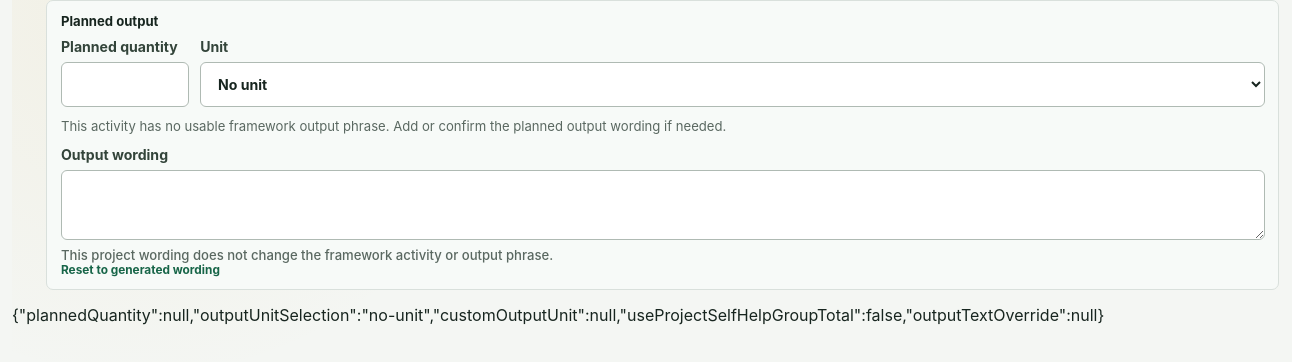
Test case: planned output wording › handles a null outputPhrase safely with user wording
The image size is (1292, 362).
Expected: the text "no usable framework output phrase" is shown, [61, 118, 726, 134]
Type "Partnership planning support delivered" into the text box labelled "Output wording".
click(663, 205); type("Partnership planning support delivered")  # box [61, 170, 1265, 240]
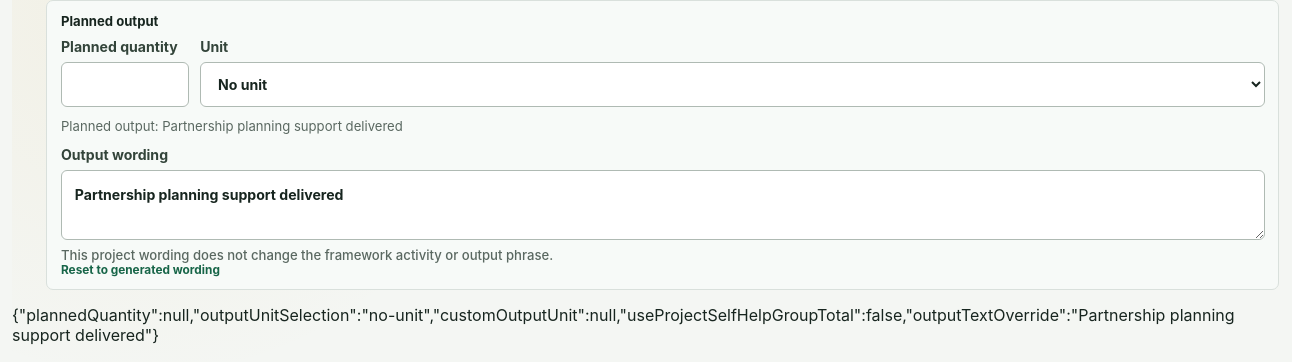
Expected: the text with test id "planning-state" shows "Partnership planning support delivered", [12, 305, 1235, 345]
